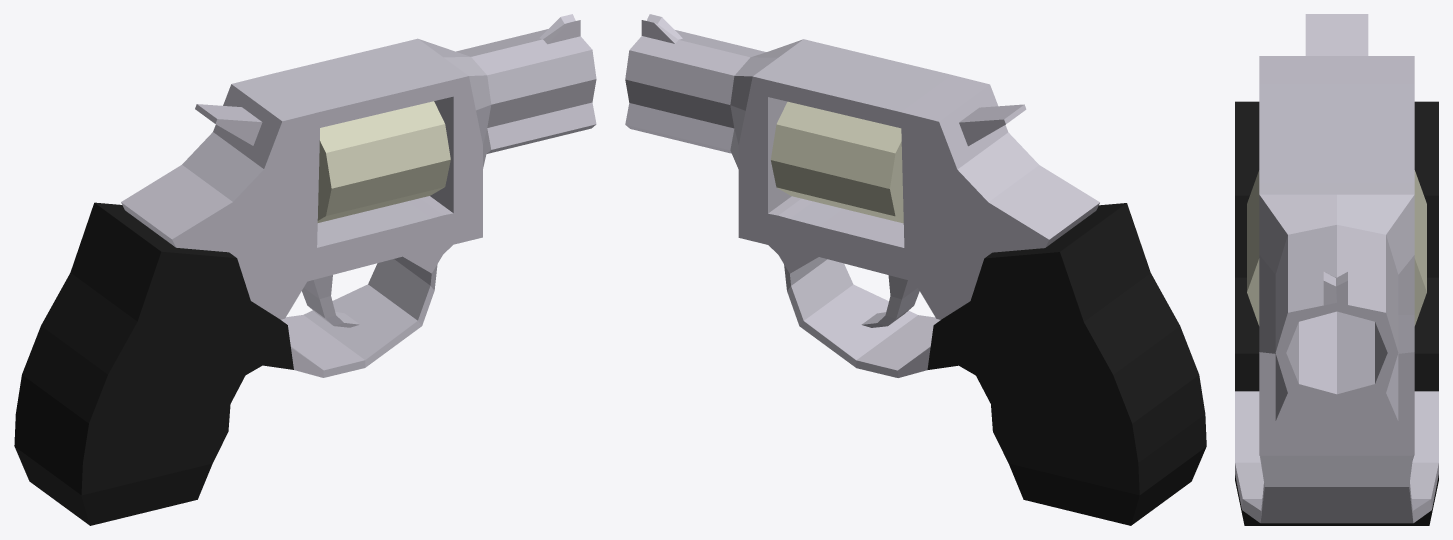
The model's file is gun.fbx.
The picture shows the model from 3 angles, left to right: view 1: azimuth 30°, elevation 25°; view 2: azimuth 150°, elevation 25°; view 3: azimuth 270°, elevation 25°; orthographic projection. The views are drawn at different scales.
Parts seen in each view (by area): view 1: Cube; view 2: Cube; view 3: Cube.
Part boxes in pixels (x1=…): Cube: x1=14, y1=14, x2=596, y2=525; Cube: x1=625, y1=14, x2=1206, y2=525; Cube: x1=1235, y1=14, x2=1438, y2=525.
Size of the model in its own units: 163 by 108 by 35.76.
